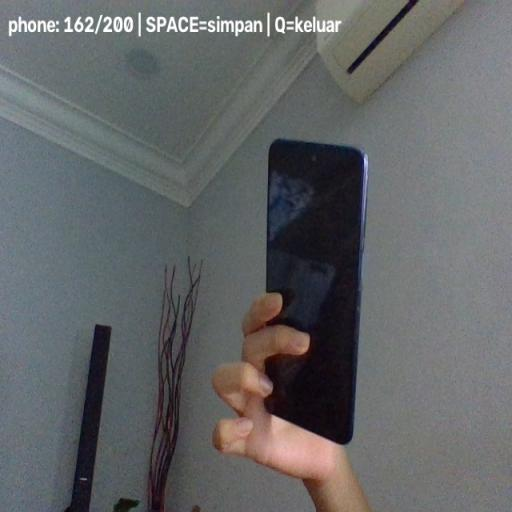Phone: (262, 138, 368, 444)
